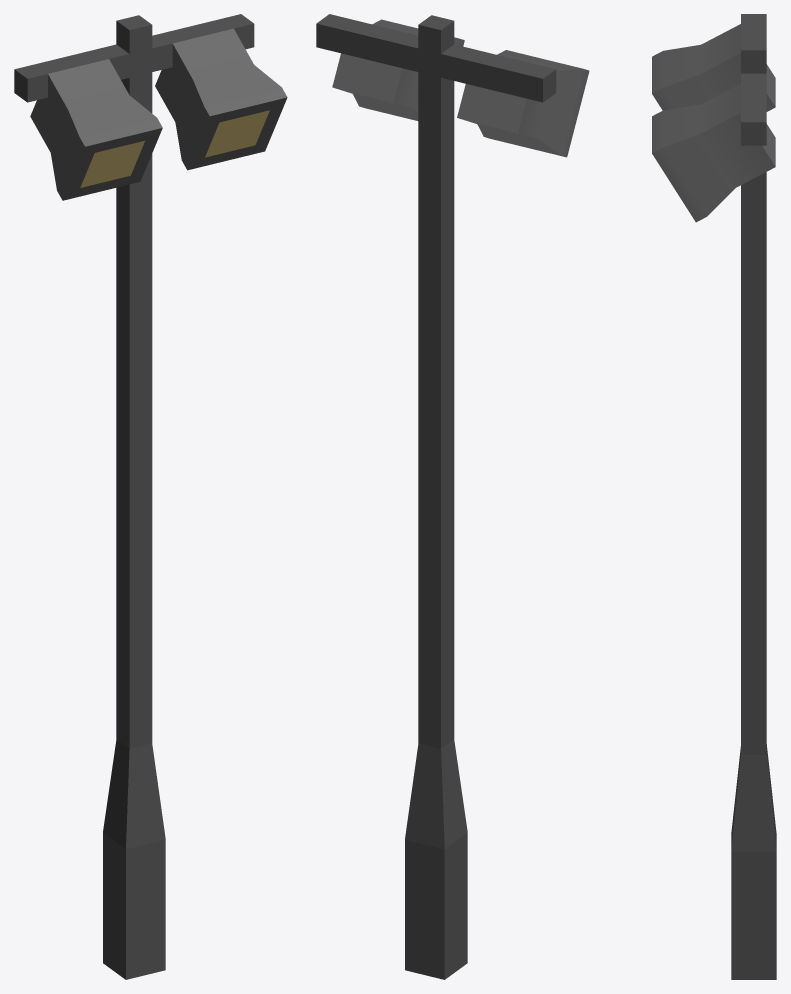
File: lightPost_exclusive.glb
3 views of the same model, side by side, from view 1: azimuth 30°, elevation 25°; view 2: azimuth 150°, elevation 25°; view 3: azimuth 270°, elevation 25° (orthographic).
Parts seen in each view (by area): view 1: lightPost_exclusive(Clone); view 2: lightPost_exclusive(Clone); view 3: lightPost_exclusive(Clone).
Part boxes in pixels (x1,y1,x2,y2): lightPost_exclusive(Clone): [14, 14, 287, 979]; lightPost_exclusive(Clone): [316, 14, 589, 979]; lightPost_exclusive(Clone): [652, 14, 776, 979].
Bounding box in the file's own units: 0.2 × 0.7957 × 0.1232.
